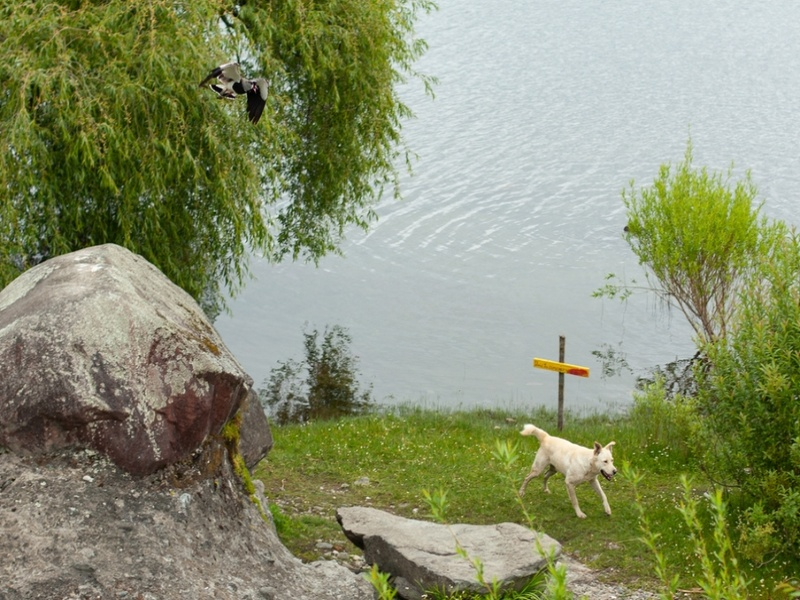dog: (516, 423, 621, 523)
